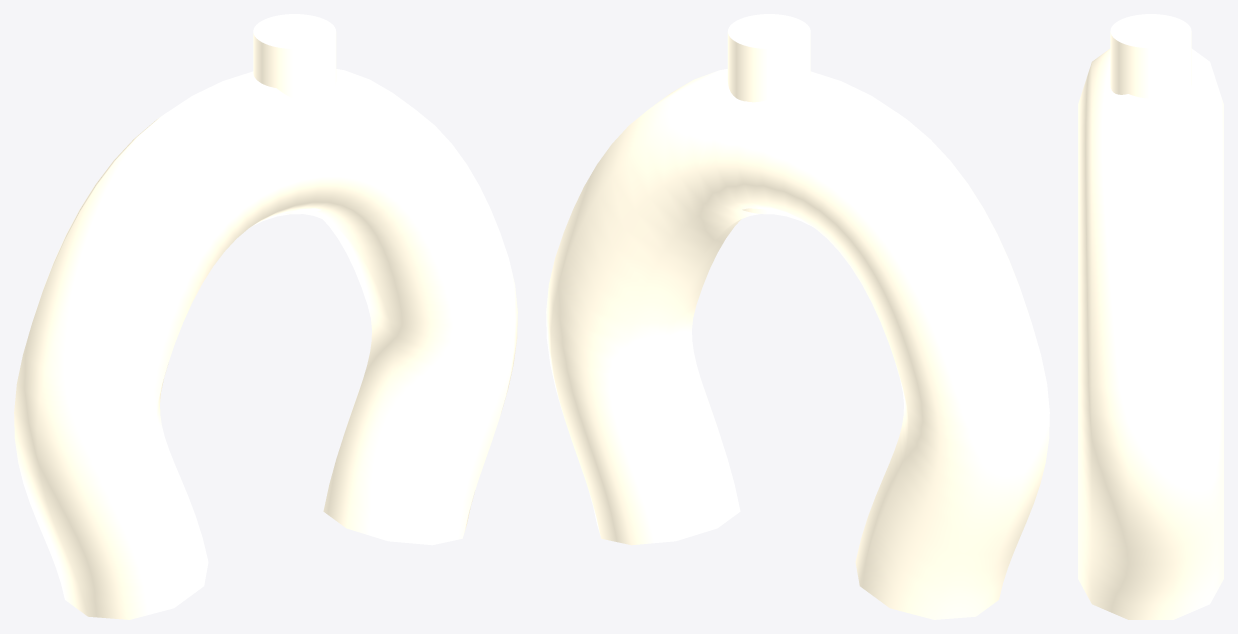
File: ref02_07.glb
3 renders of one model, left to right at view 1: azimuth 30°, elevation 25°; view 2: azimuth 150°, elevation 25°; view 3: azimuth 270°, elevation 25°, orthographic. The views are drawn at different scales.
Visible parts, largest first — view 1: ref02_07; view 2: ref02_07; view 3: ref02_07.
Part boxes in pixels (x1,y1,x2,y2): ref02_07: (14, 14, 517, 619); ref02_07: (546, 14, 1049, 619); ref02_07: (1078, 14, 1223, 619).
Bounding box in the file's own units: 0.3347 × 0.3484 × 0.09.
